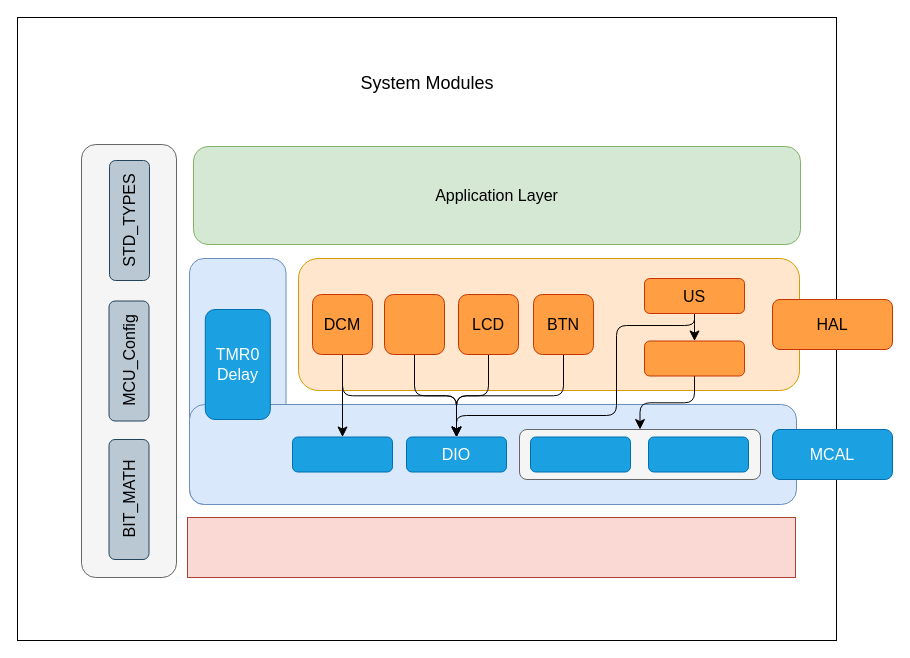
This 910x658 diagram has some shape labels left out. Here are the shapes that lost their labels. From the top down, the box of each, then its label:
(384, 294, 444, 354): KPD
(644, 340, 744, 376): ICU
(292, 436, 392, 472): PWM
(530, 436, 630, 472): TMR1
(648, 436, 748, 472): EXI
(186, 516, 796, 578): Microcontroller
